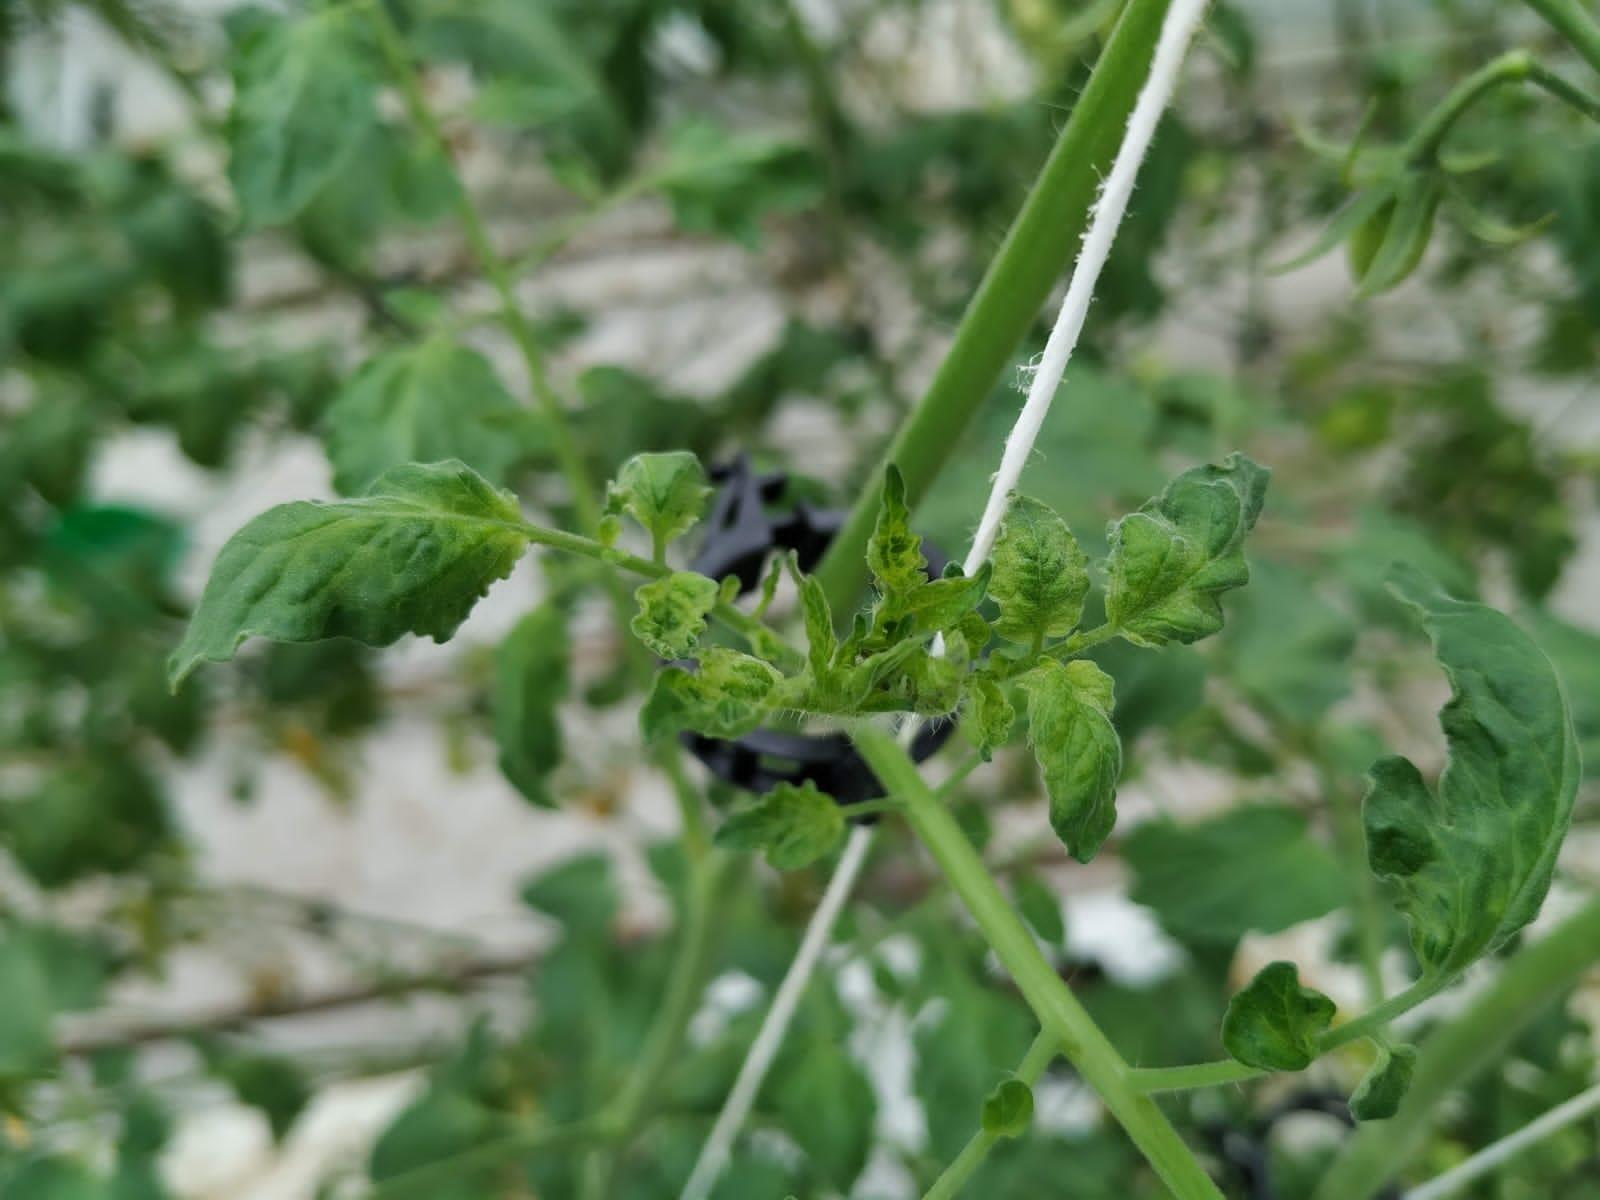Hoja: (168, 458, 527, 682), (1096, 456, 1274, 650)
Hoja rugoso: (1362, 566, 1581, 993)
